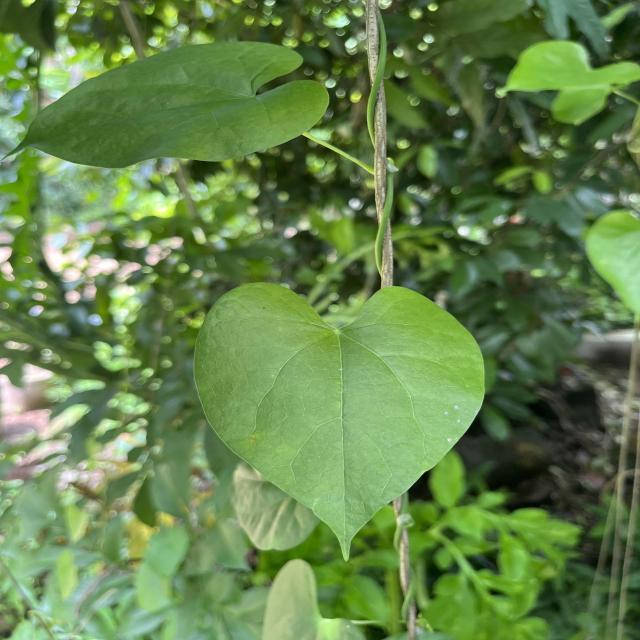Tinospora cordifolia: (188, 276, 490, 566), (0, 36, 332, 178)
